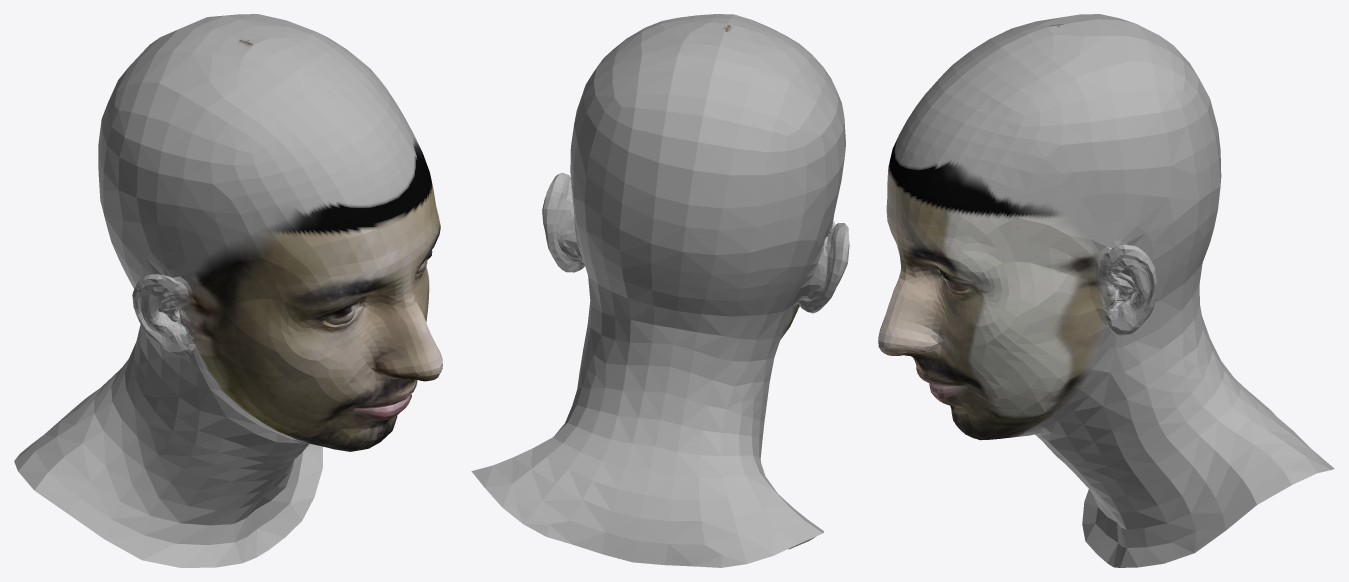
The model's file is ezgif-frame-037.obj.
3 renders of one model, left to right at view 1: azimuth 30°, elevation 25°; view 2: azimuth 150°, elevation 25°; view 3: azimuth 270°, elevation 25°, orthographic. The views are drawn at different scales.
Size of the model in its own units: 0.1989 by 0.3268 by 0.2625.
Materials: 1 (1 with a texture image).
